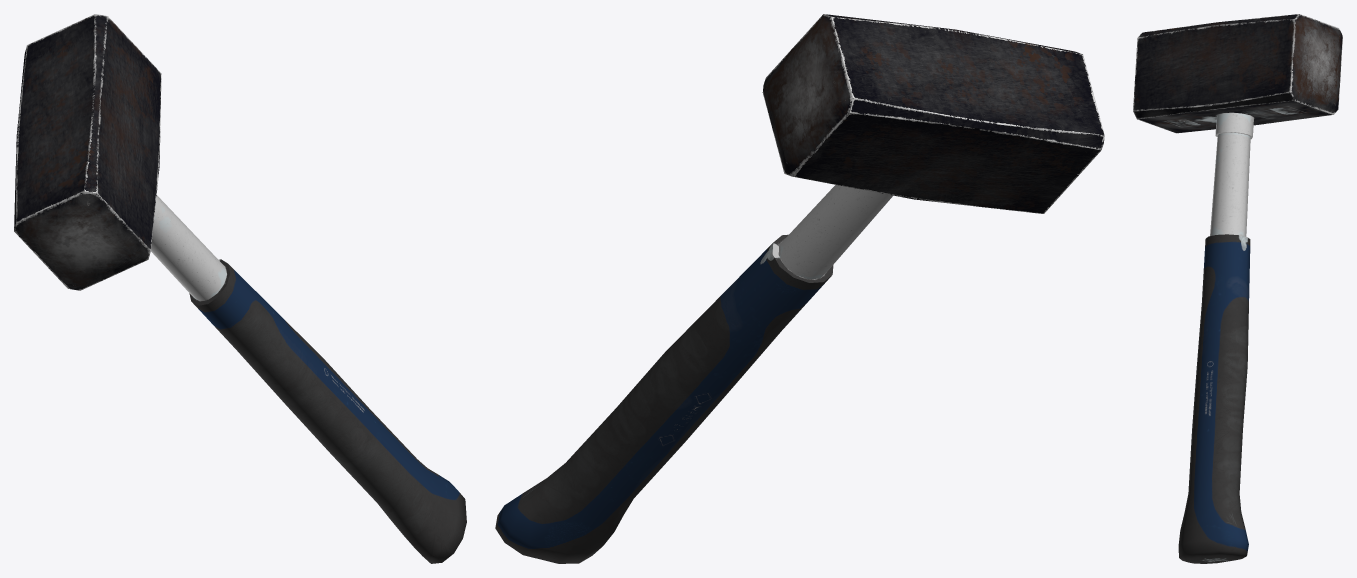
The model's file is hammer.glb.
The picture shows the model from 3 angles, left to right: view 1: azimuth 30°, elevation 25°; view 2: azimuth 150°, elevation 25°; view 3: azimuth 270°, elevation 25°; orthographic projection. The views are drawn at different scales.
Visible parts, largest first — view 1: Hammerhead_low, PlasticHandle_low, MetalHandle_low; view 2: Hammerhead_low, PlasticHandle_low, MetalHandle_low; view 3: Hammerhead_low, PlasticHandle_low, MetalHandle_low.
Part boxes in pixels (x1,y1,x2,y2): Hammerhead_low: (14, 14, 161, 290); PlasticHandle_low: (189, 259, 466, 563); MetalHandle_low: (151, 195, 226, 301); Hammerhead_low: (762, 14, 1104, 213); PlasticHandle_low: (495, 234, 833, 563); MetalHandle_low: (778, 185, 892, 279); Hammerhead_low: (1133, 14, 1342, 133); PlasticHandle_low: (1178, 234, 1250, 563); MetalHandle_low: (1210, 112, 1253, 236).
Bounding box in the file's own units: 5.52 × 6.29 × 2.69.
1 material, 1 textured.
